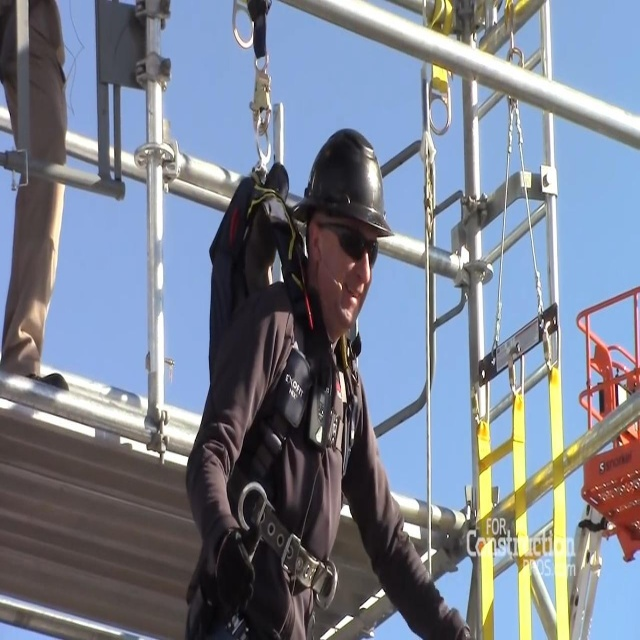Arnes_seguridad: (179, 172, 361, 640)
